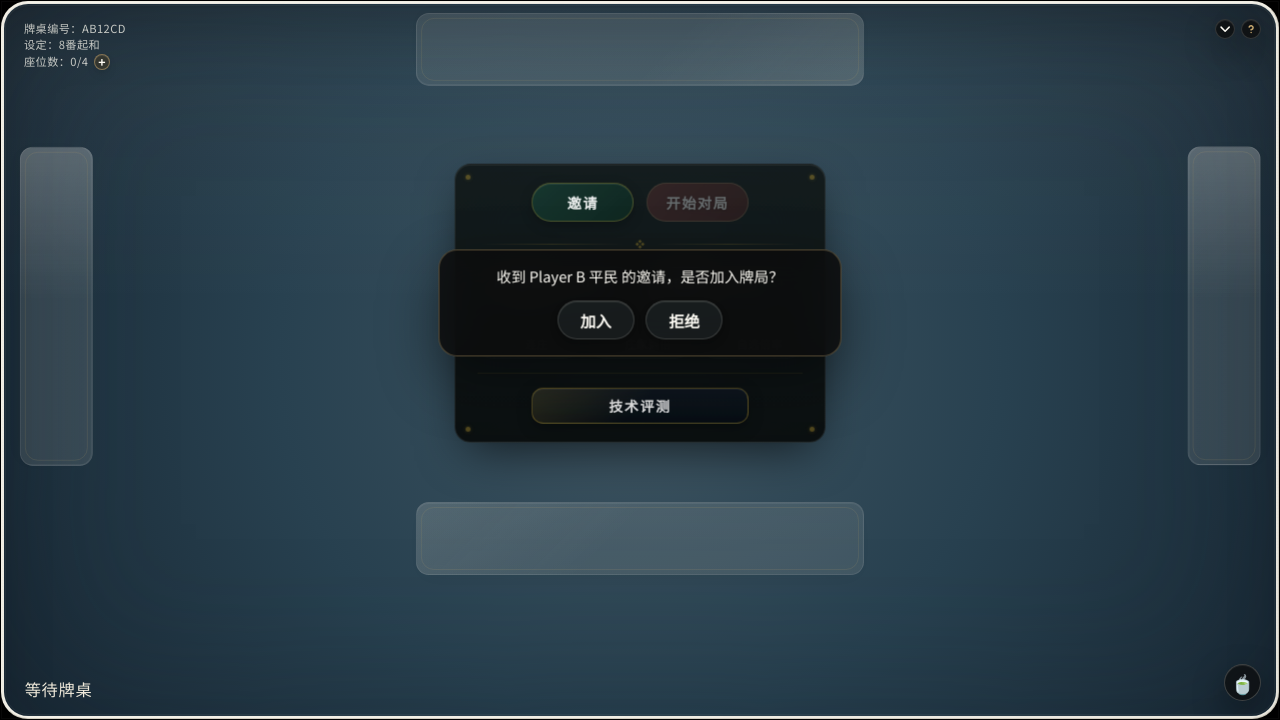
Test: App › loads evaluation context after accepting an evaluation table invite
What coordinates should you click on to do the following:
click the button "加入"
I would click on:
 (596, 320)
Its box is [557,301,635,340].
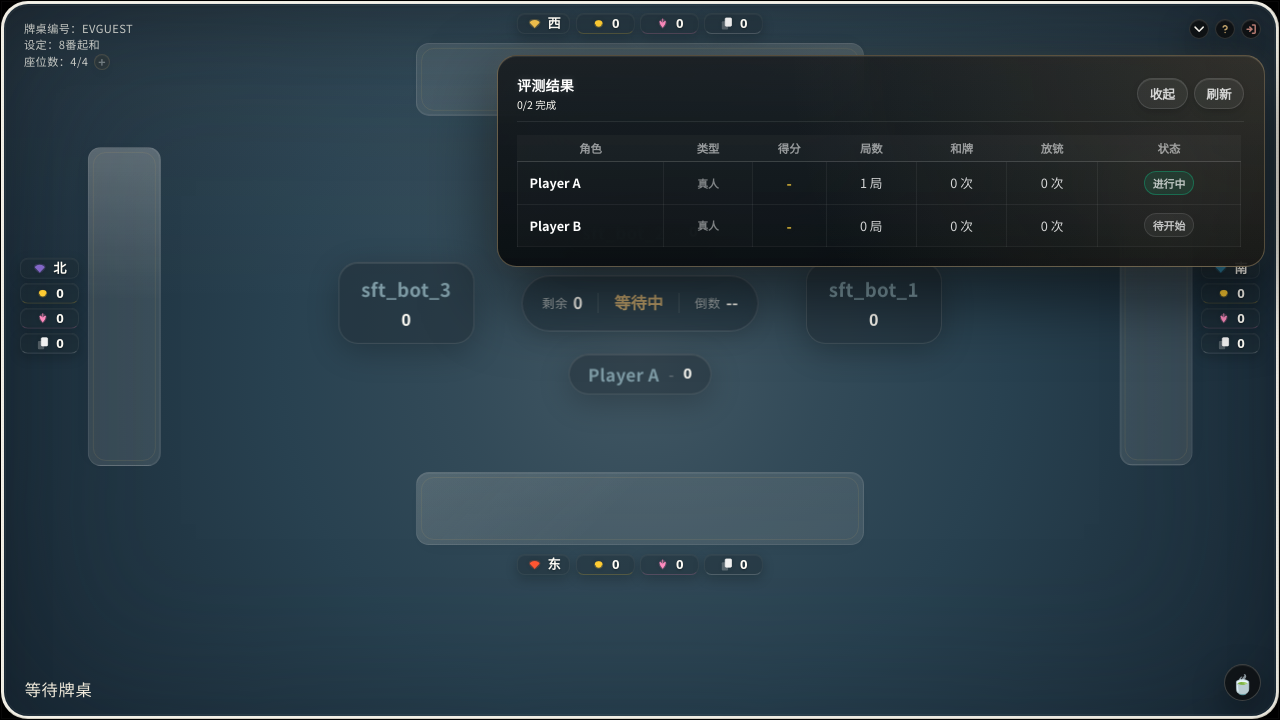
Check: the text "Player B" is shown, box [518,204,664,246]
Check: the text "Player A" is shown, box [518,162,664,204]
